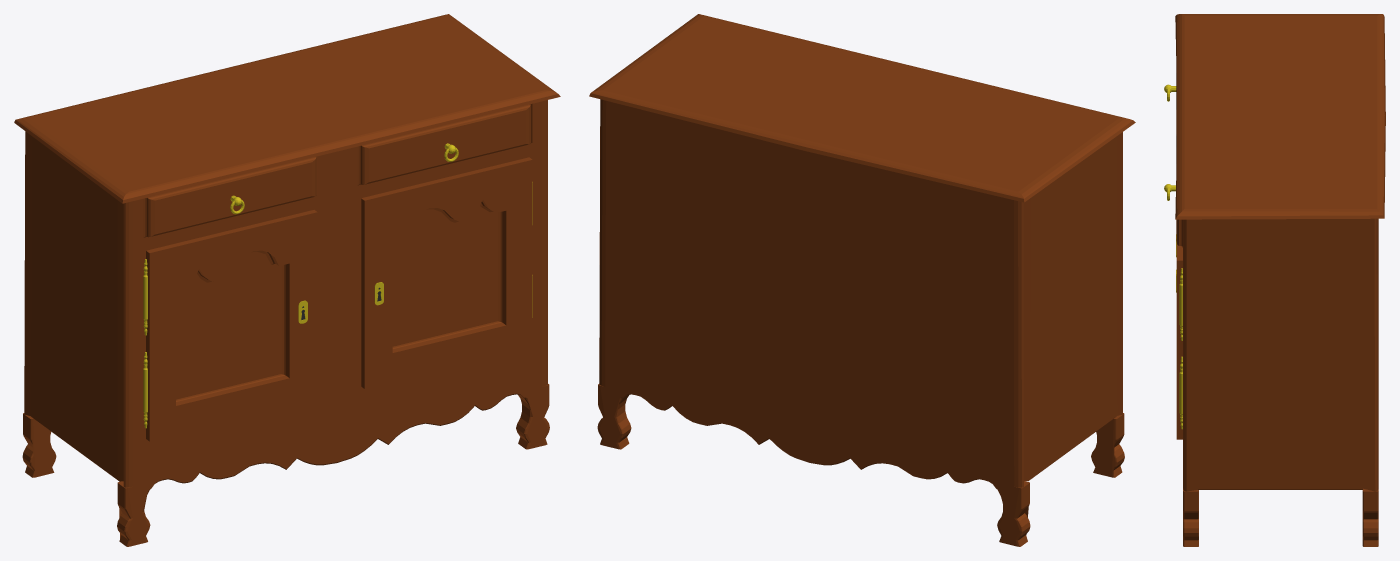
File: Meuble.fbx
3 views of the same model, side by side, from view 1: azimuth 30°, elevation 25°; view 2: azimuth 150°, elevation 25°; view 3: azimuth 270°, elevation 25° (orthographic). The views are drawn at different scales.
Parts seen in each view (by area): view 1: Cube.003; view 2: Cube.003; view 3: Cube.003.
Boxes of the visible parts, x1,y1,x2,y2 form: Cube.003: (14,14,560,546); Cube.003: (589,14,1135,546); Cube.003: (1164,14,1385,546).
Bounding box in the file's own units: 492 × 380 × 227.
